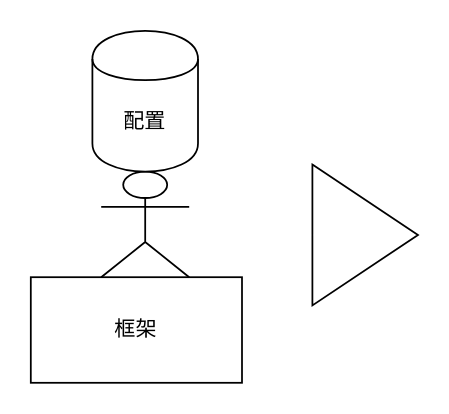
The diagram is 449 pixels wide and 414 high, and some of its shapes have lost their labels. The centre of each missing label's shape, as x and y in pixels:
"类库" goes at (x=364, y=234).
"脚本" goes at (x=144, y=223).
